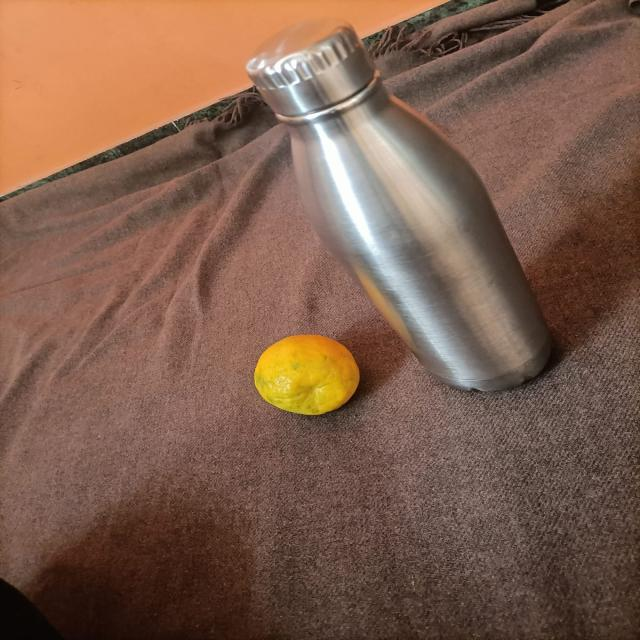bottle: (262, 0, 555, 430)
orange: (232, 328, 375, 426)
